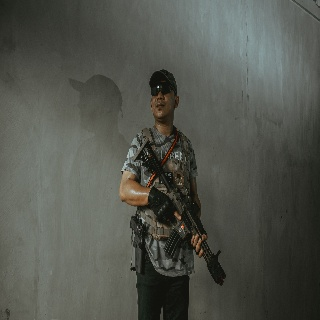rifle: (133, 138, 226, 287)
